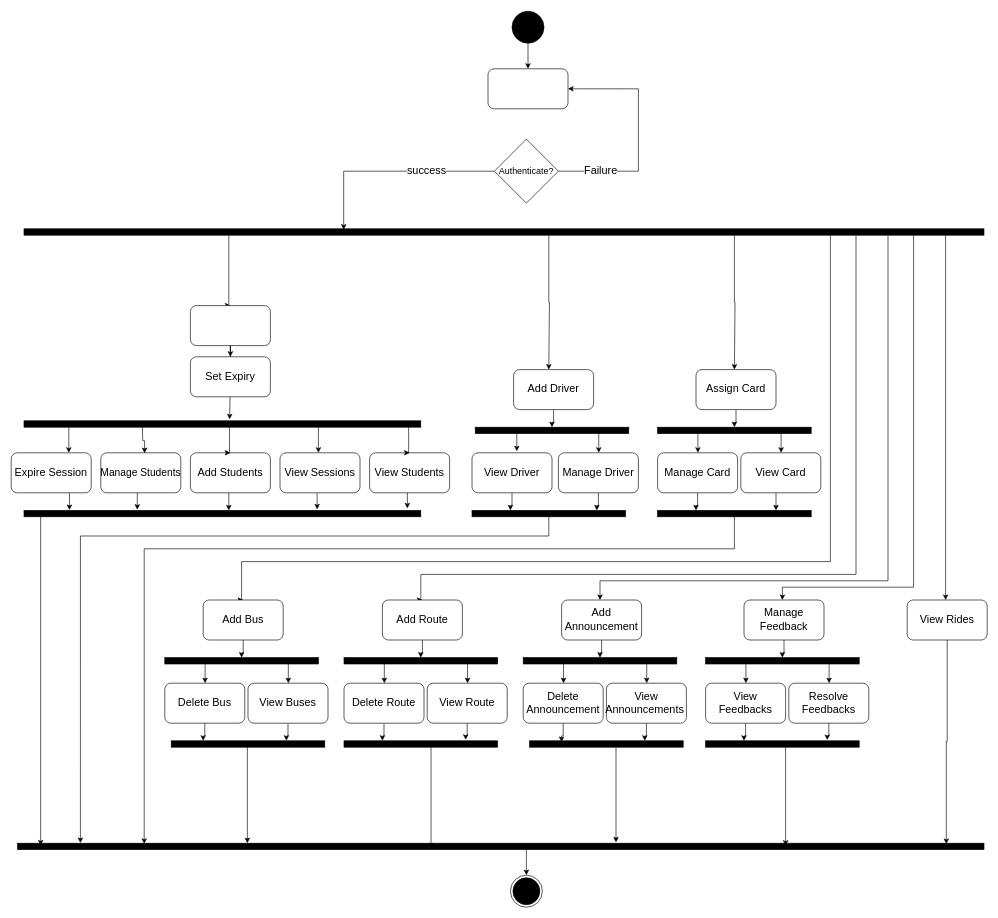
Some shapes in this 998 by 918 pixel diagram are drawn without their labels. Each missing label, with the centre of its shape:
Add Session: point 230,325
Sign in: point 527,88
